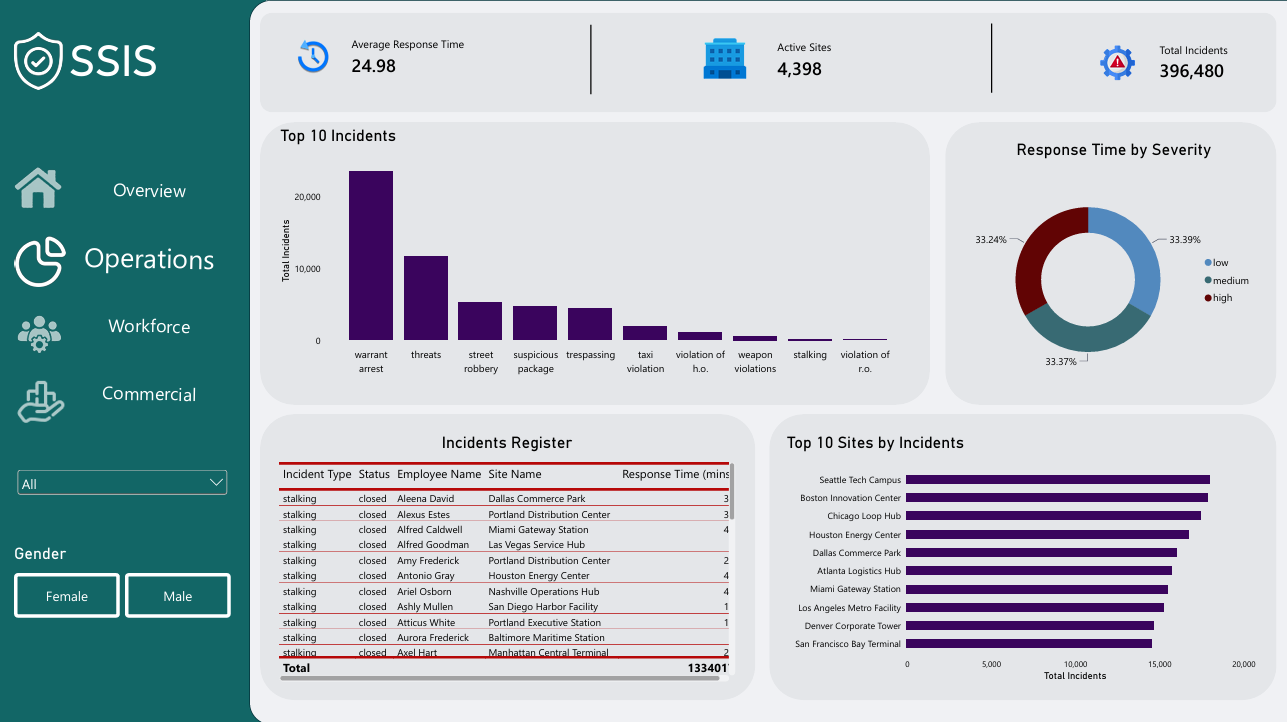

This screenshot's page, from the dashboard's own definition file:
{"tool":"powerbi","page":{"name":"Operations","canvas":[1280,720],"ordinal":2},"visuals":[{"type":"textbox","box":[401.1,11.8,859.6,64.7],"z":0},{"type":"shape","box":[10.3,11.8,205.7,696.5],"z":1000},{"type":"textbox","box":[29.4,27.9,173.4,48.5],"z":2000},{"type":"actionButton","box":[23.5,477.6,175.6,58.9],"z":2000,"group":"g1"},{"type":"actionButton","box":[29.4,373.2,174.1,58.9],"z":3000,"group":"g2"},{"type":"group","id":"g1","title":"Group 1","box":[23.5,477.6,174.9,58.8],"z":3000},{"type":"actionButton","box":[26.4,577.5,176.3,60.2],"z":3000,"group":"g7"},{"type":"group","id":"g2","title":"Group 2","box":[29.4,373.2,173.4,58.8],"z":4000},{"type":"image","box":[29.3,577.5,36.7,60.2],"z":4000,"group":"g7"},{"type":"group","id":"g3","title":"Group 3","box":[23.5,270.4,174.9,58.8],"z":5000},{"type":"actionButton","box":[23.5,270.4,174.9,58.8],"z":5000,"group":"g3"},{"type":"tableEx","title":"Top 10 Incidents","fields":{"Values":["ssis incident.incident_type","CountNonNull(ssis incident.incident_type)"]},"box":[986.8,99.1,273.9,322.1],"z":6000},{"type":"clusteredBarChart","title":"Top 10 Sites by Incidents","fields":{"Category":["ssis site.site_name"],"Y":["CountNonNull(ssis incident.incident_type)"]},"box":[227.1,200.9,389.5,351],"z":7000},{"type":"cardVisual","title":"Average Response Time","fields":{"Data":["ssis incident.Average Response Time"]},"box":[227.1,93.6,212.3,99.5],"z":8000,"group":"g4"},{"type":"clusteredColumnChart","title":"Response Time by Severity","fields":{"Category":["ssis incident.severity"],"Y":["Avg(ssis incident.response_time_minutes)"]},"box":[627.1,201.6,349.5,219.9],"z":8000},{"type":"image","box":[24.8,477.6,38,58.9],"z":8000,"group":"g1"},{"type":"cardVisual","title":"Total Incidents","fields":{"Data":["ssis incident.Total Incidents"]},"box":[764.1,89.6,213.1,98.4],"z":9000,"group":"g6"},{"type":"image","box":[30.7,373.2,37.7,58.9],"z":9000,"group":"g2"},{"type":"lineChart","title":"Incidents Trend","fields":{"Y":["CountNonNull(ssis incident.incident_type)"],"Category":["ssis incident.incident_datetime.Variation.Date Hierarchy.Year","ssis incident.incident_datetime.Variation.Date Hierarchy.Quarter","ssis incident.incident_datetime.Variation.Date Hierarchy.Month","ssis incident.incident_datetime.Variation.Date Hierarchy.Day"]},"box":[227.8,566.8,388.8,141.4],"z":9000},{"type":"cardVisual","title":"Active Sites","fields":{"Data":["ssis site.Active Sites"]},"box":[511.3,88.2,211.6,102.9],"z":10000,"group":"g5"},{"type":"image","box":[24.8,270.4,37.8,58.8],"z":10000,"group":"g3"},{"type":"tableEx","title":"Incidents Register","fields":{"Values":["ssis incident.incident_type","ssis incident.status","Sum(ssis incident.response_time_minutes)","ssis employee.employee_name","ssis site.site_name"]},"box":[627.1,432,633.6,288],"z":10000},{"type":"textbox","box":[227.8,27.9,158.7,48.5],"z":11000},{"type":"group","id":"g4","title":"Group 4","box":[227.1,93.6,212.3,99.5],"z":12000},{"type":"group","id":"g5","title":"Group 5","box":[511.3,88.2,211.6,102.9],"z":13000},{"type":"group","id":"g6","title":"Group 6","box":[764.1,89.6,213.1,98.4],"z":14000},{"type":"group","id":"g7","title":"Group 7","box":[26.4,577.5,176.3,60.2],"z":15000},{"type":"image","box":[227.8,124.9,95.5,63.2],"z":15002,"group":"g4"},{"type":"image","box":[764.1,89.6,80.8,98.4],"z":15003,"group":"g6"},{"type":"image","box":[511.3,88.2,95.5,99.9],"z":15004,"group":"g5"},{"type":"image","box":[22,98.4,180.7,155.8],"z":16000}]}

Visuals, with their boxes on the page's 1280x720 design canvas (x1, y1, x2, y2). These are canvas units, not pixel positions in the 1287x722 screenshot, which may show the page scaled, cropped or inside an application window:
textbox: (401,12,1261,76)
shape: (10,12,216,708)
textbox: (29,28,203,76)
actionButton: (24,478,199,536)
actionButton: (29,373,204,432)
"Group 1" group: (24,478,198,536)
actionButton: (26,578,203,638)
"Group 2" group: (29,373,203,432)
image: (29,578,66,638)
"Group 3" group: (24,270,198,329)
actionButton: (24,270,198,329)
"Top 10 Incidents" tableEx: (987,99,1261,421)
"Top 10 Sites by Incidents" clusteredBarChart: (227,201,617,552)
"Average Response Time" cardVisual: (227,94,439,193)
"Response Time by Severity" clusteredColumnChart: (627,202,977,422)
image: (25,478,63,536)
"Total Incidents" cardVisual: (764,90,977,188)
image: (31,373,68,432)
"Incidents Trend" lineChart: (228,567,617,708)
"Active Sites" cardVisual: (511,88,723,191)
image: (25,270,63,329)
"Incidents Register" tableEx: (627,432,1261,720)
textbox: (228,28,386,76)
"Group 4" group: (227,94,439,193)
"Group 5" group: (511,88,723,191)
"Group 6" group: (764,90,977,188)
"Group 7" group: (26,578,203,638)
image: (228,125,323,188)
image: (764,90,845,188)
image: (511,88,607,188)
image: (22,98,203,254)
